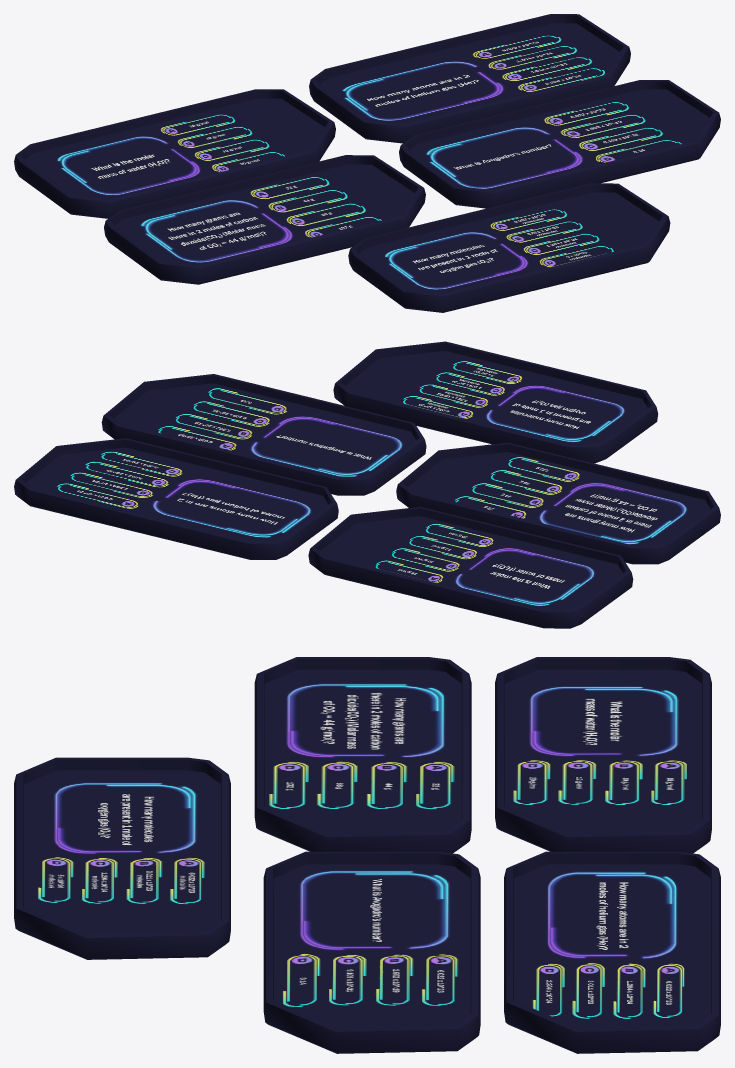
Rendered from level_10.fbx.
3 renders of one model, top to bottom at view 1: azimuth 30°, elevation 25°; view 2: azimuth 150°, elevation 25°; view 3: azimuth 270°, elevation 25°, orthographic. The views are drawn at different scales.
Parts seen in each view (by area): view 1: q3, q4, q2, q1, q5; view 2: q1, q5, q3, q2, q4; view 3: q4, q3, q5, q2, q1.
Part boxes in pixels (<box>): q3: <box>348,183,670,312</box>; q4: <box>399,80,720,208</box>; q2: <box>104,155,425,284</box>; q1: <box>14,89,335,218</box>; q5: <box>309,14,630,143</box>; q1: <box>308,506,633,628</box>; q5: <box>14,438,338,559</box>; q3: <box>333,341,658,463</box>; q2: <box>396,442,720,564</box>; q4: <box>101,374,426,495</box>; q4: <box>263,851,480,1053</box>; q3: <box>14,757,230,959</box>; q5: <box>504,851,720,1053</box>; q2: <box>254,657,471,853</box>; q1: <box>495,657,711,853</box>.
Bounding box in the file's own units: 1377 × 40.69 × 1092.
1 material, 1 textured.
